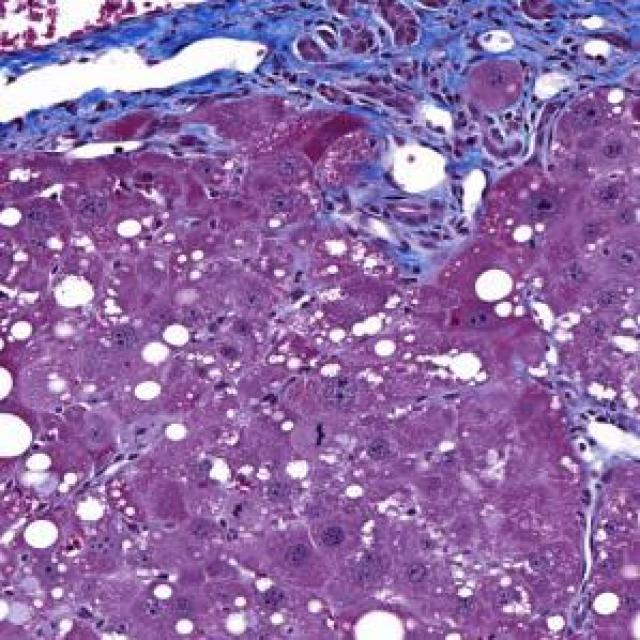fibrosis: (148, 6, 436, 135), (372, 17, 623, 152)
